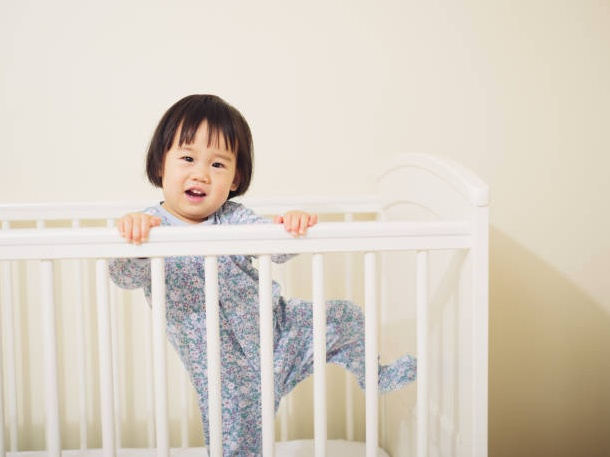crib: (0, 154, 488, 456)
